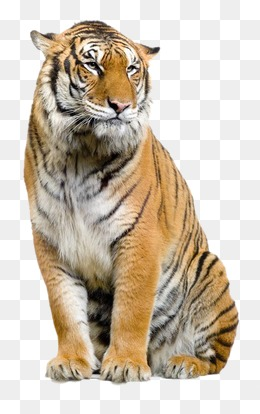Tiger: (28, 17, 242, 381)
